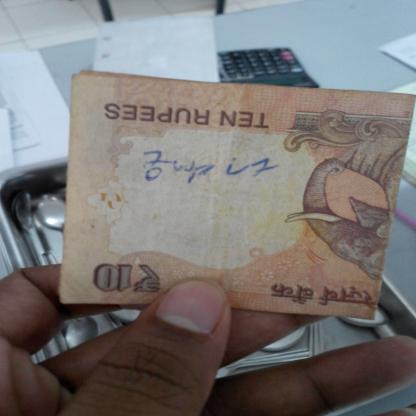Old10Back: (58, 68, 416, 322)
